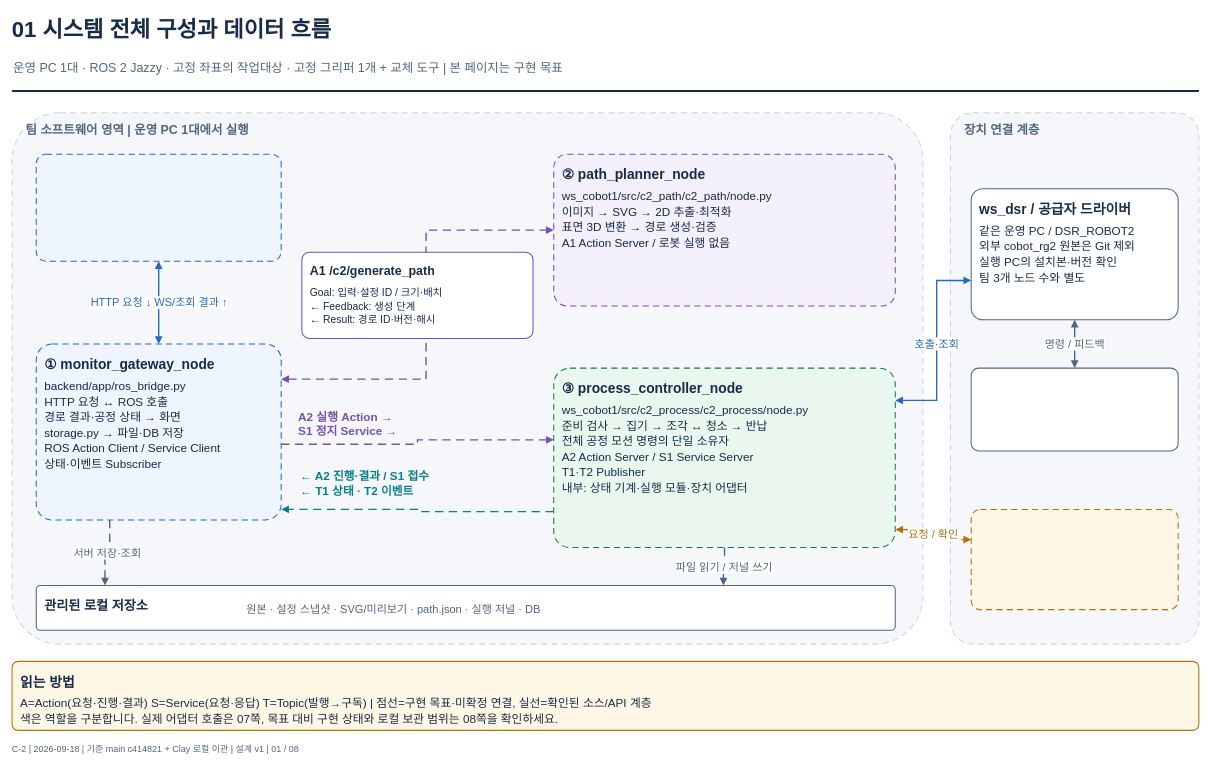
This 1212x769 diagram has some shape labels left out. The centre of each missing label's shape, as x and y in pixels:
고정 2점 그리퍼 + 도구 gripper_adapter.py 연결 목표 통신·피드백·모델 확인 필요 공급자 연결 방식은 확정 전: (1074,559)
두산 제어기 · M0609 유선 연결 / 장비 상태·동작 주소·제어 조건은 현장 설정: (1074,409)
운영자 시스템 모니터 frontend/src/ 이미지·크기·배치·도구 선택 미리보기 확인 / 시작·정지 / 검사: (158,207)
